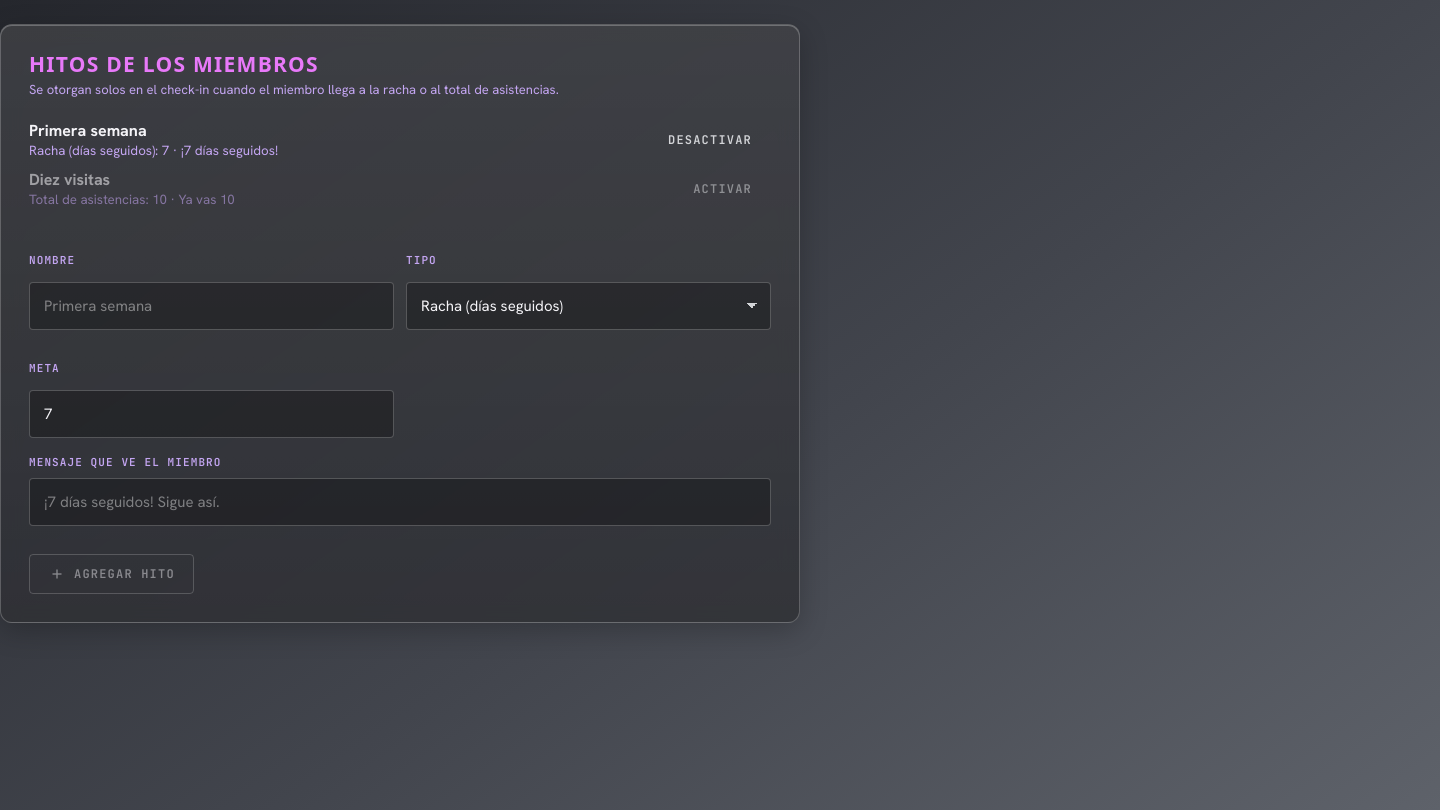
it: HitosConfig: crear un hito › should send the goal as a number, reload the list and empty the form when the milestone is created
Expected: the text "Primera semana" is shown, [29,120,147,141]
Step 1. Type "Veinte visitas" into the field labelled "Nombre" → (212, 306), box [29,282,394,330]
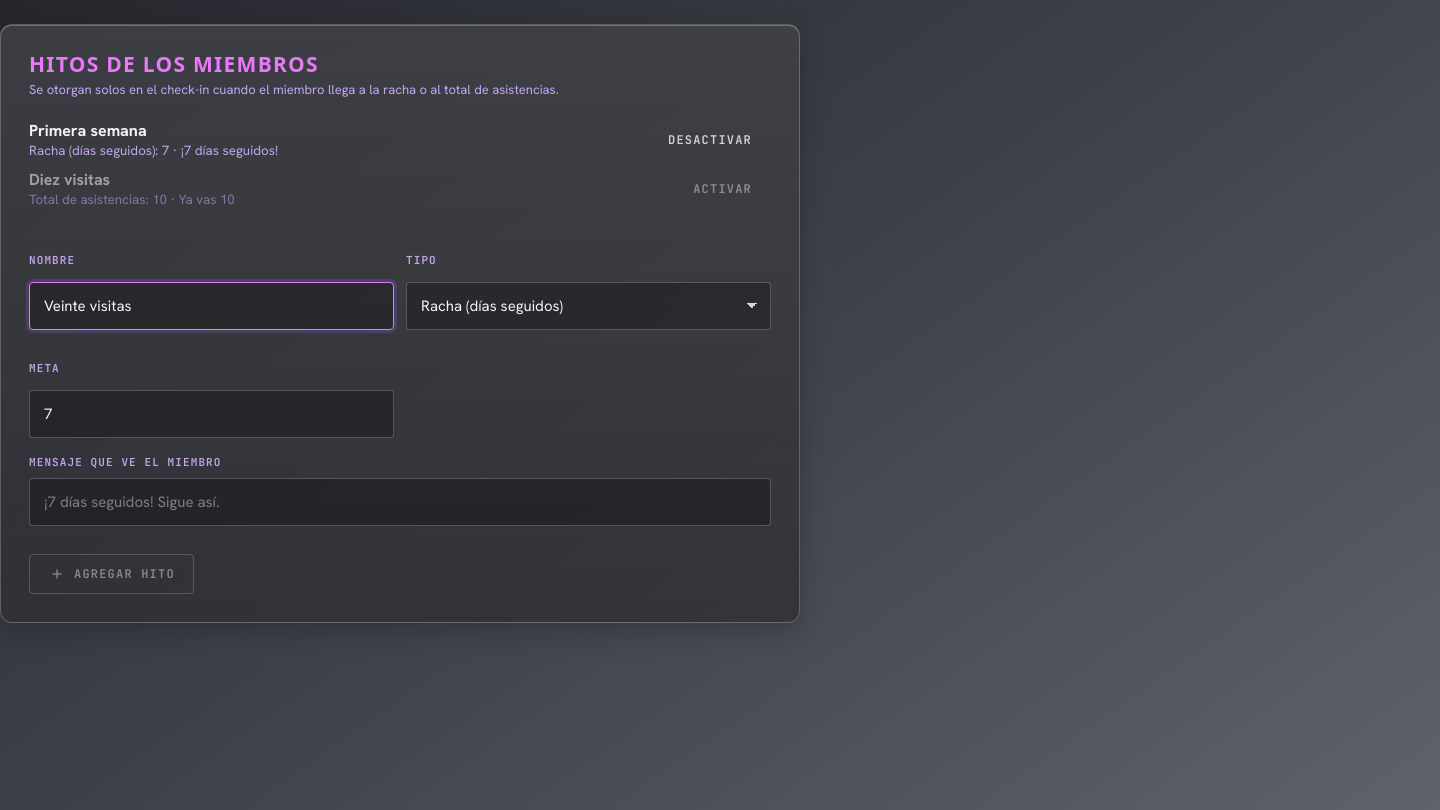
Step 2. Select "Total de asistencias" in the dropdown labelled "Tipo" → (588, 306), box [406,282,771,330]
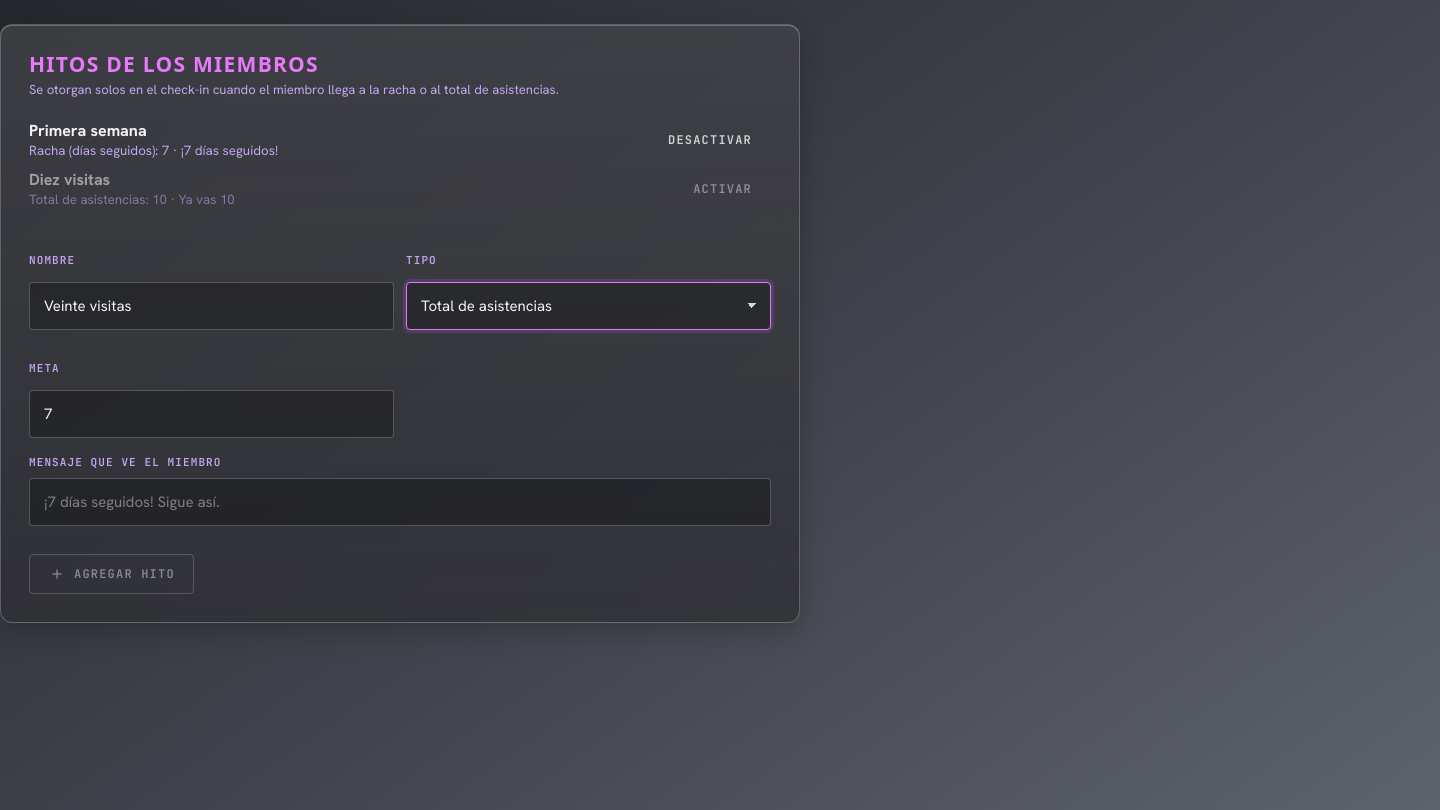
Step 3. Replace the text in the number field labelled "Meta" with "20" → (212, 414), box [29,390,394,438]
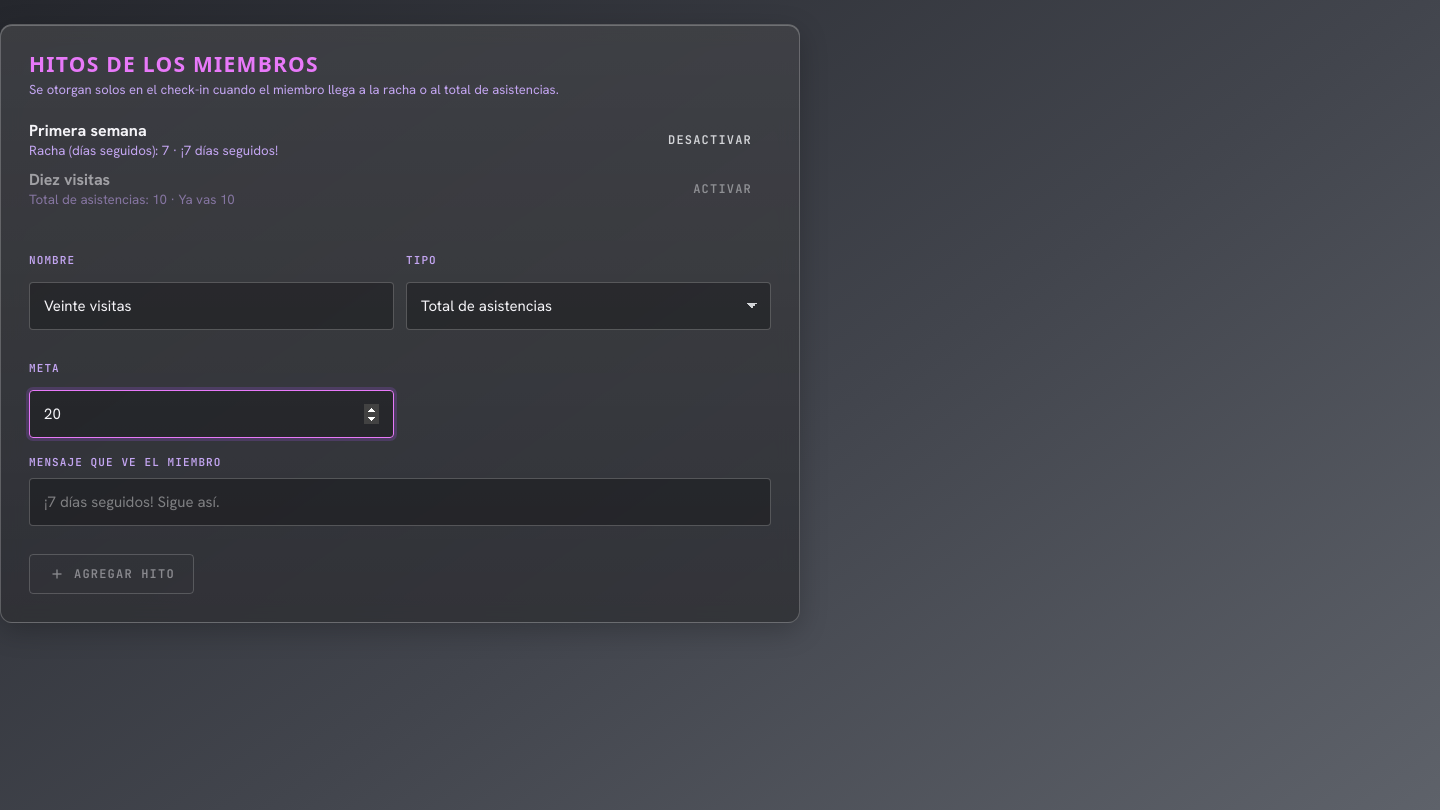
Step 4. Type "¡20 visitas!" into the field labelled "Mensaje que ve el miembro" → (400, 502), box [29,478,771,526]
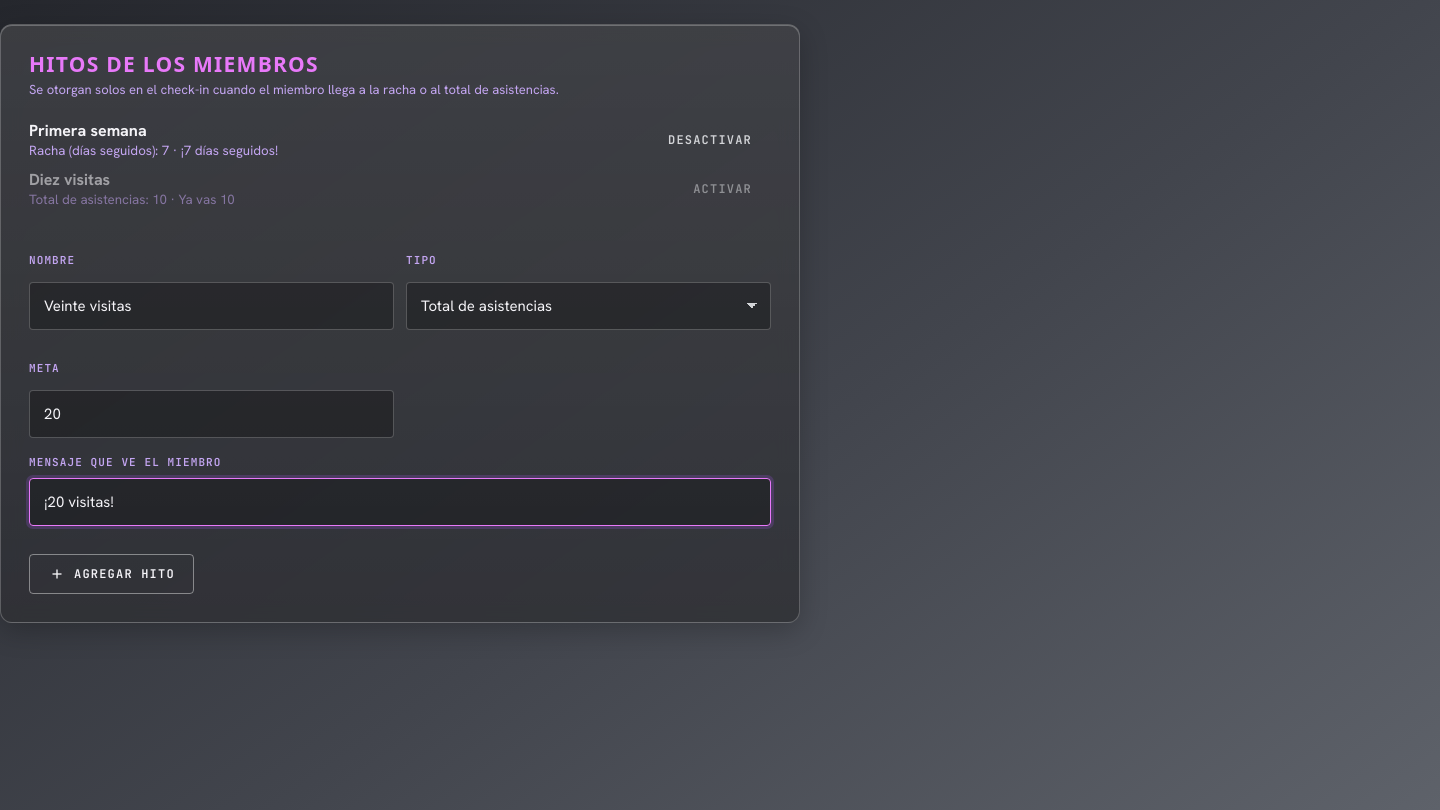
Step 5. Click the button "Agregar hito" → (111, 574), box [29,554,194,594]
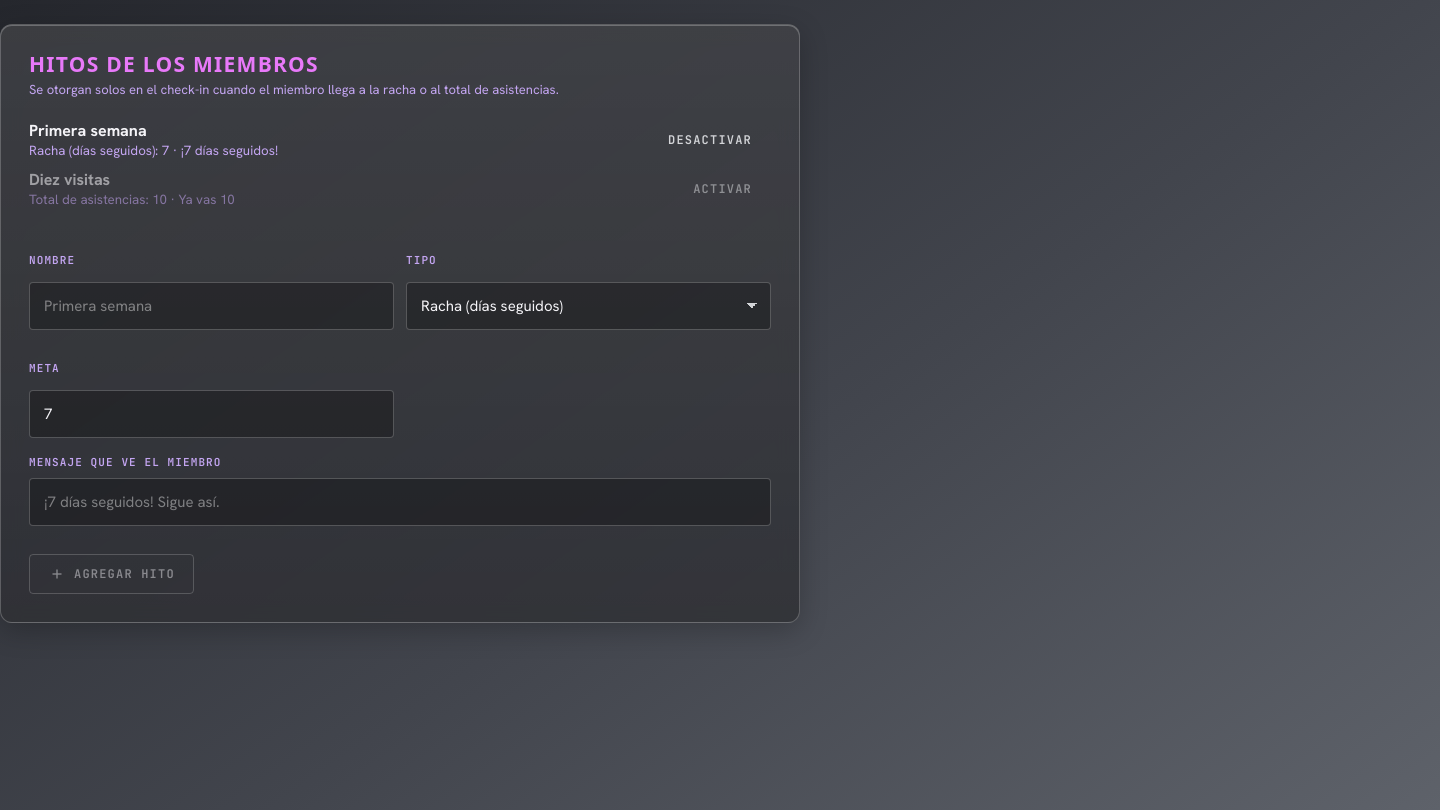
Result: the field labelled "Nombre" is empty at [29,282,394,330]
Result: the number field labelled "Meta" holds "7" at [29,390,394,438]
